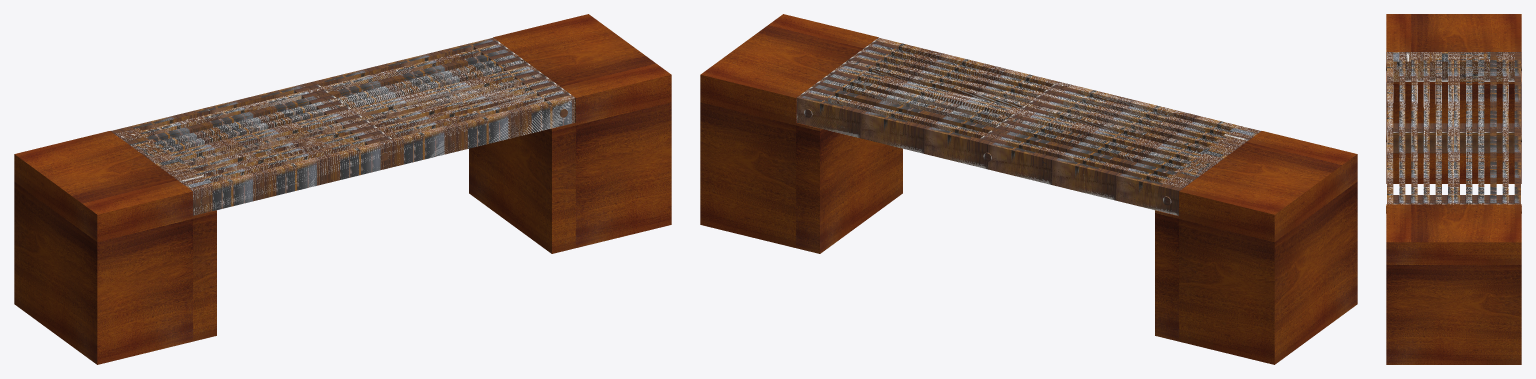
3 renders of one model, left to right at view 1: azimuth 30°, elevation 25°; view 2: azimuth 150°, elevation 25°; view 3: azimuth 270°, elevation 25°, orthographic. The views are drawn at different scales.
Parts seen in each view (by area): view 1: mesh1_mesh1-geometry, mesh3_mesh3-geometry, mesh54_mesh54-geometry, mesh5_mesh5-geometry, mesh37_mesh37-geometry, mesh15_mesh15-geometry, mesh36_mesh36-geometry, mesh19_mesh19-geometry, mesh29_mesh29-geometry, mesh53_mesh53-geometry, mesh41_mesh41-geometry, mesh25_mesh25-geometry (+2 smaller); view 2: mesh1_mesh1-geometry, mesh3_mesh3-geometry, mesh5_mesh5-geometry, mesh29_mesh29-geometry, mesh54_mesh54-geometry, mesh33_mesh33-geometry, mesh53_mesh53-geometry, mesh15_mesh15-geometry, mesh37_mesh37-geometry, mesh61_mesh61-geometry, mesh25_mesh25-geometry, mesh19_mesh19-geometry (+2 smaller); view 3: mesh3_mesh3-geometry, mesh1_mesh1-geometry, mesh19_mesh19-geometry, mesh61_mesh61-geometry, mesh5_mesh5-geometry, mesh15_mesh15-geometry, mesh25_mesh25-geometry, mesh29_mesh29-geometry, mesh37_mesh37-geometry, mesh41_mesh41-geometry, mesh53_mesh53-geometry, mesh54_mesh54-geometry (+22 smaller).
Boxes of the visible parts, box(x1,y1,x2,y2) form: mesh1_mesh1-geometry: box(14, 131, 216, 364); mesh3_mesh3-geometry: box(469, 14, 671, 253); mesh54_mesh54-geometry: box(189, 95, 575, 215); mesh5_mesh5-geometry: box(111, 37, 496, 133); mesh37_mesh37-geometry: box(159, 73, 545, 168); mesh15_mesh15-geometry: box(118, 43, 504, 138); mesh36_mesh36-geometry: box(152, 67, 537, 163); mesh19_mesh19-geometry: box(126, 48, 511, 144); mesh29_mesh29-geometry: box(141, 59, 526, 155); mesh53_mesh53-geometry: box(182, 89, 567, 185); mesh41_mesh41-geometry: box(167, 78, 552, 174); mesh25_mesh25-geometry: box(133, 54, 518, 149); mesh1_mesh1-geometry: box(1155, 131, 1357, 364); mesh3_mesh3-geometry: box(700, 14, 902, 253); mesh5_mesh5-geometry: box(796, 95, 1182, 215); mesh29_mesh29-geometry: box(826, 73, 1212, 168); mesh54_mesh54-geometry: box(875, 37, 1260, 133); mesh33_mesh33-geometry: box(834, 67, 1219, 163); mesh53_mesh53-geometry: box(867, 43, 1253, 138); mesh15_mesh15-geometry: box(804, 89, 1189, 185); mesh37_mesh37-geometry: box(845, 59, 1230, 155); mesh61_mesh61-geometry: box(860, 48, 1245, 144); mesh25_mesh25-geometry: box(819, 78, 1204, 174); mesh19_mesh19-geometry: box(812, 84, 1197, 179); mesh3_mesh3-geometry: box(1386, 204, 1521, 364); mesh1_mesh1-geometry: box(1386, 14, 1521, 183); mesh19_mesh19-geometry: box(1490, 52, 1496, 204); mesh61_mesh61-geometry: box(1411, 52, 1417, 204); mesh5_mesh5-geometry: box(1514, 52, 1520, 204); mesh15_mesh15-geometry: box(1502, 52, 1508, 204); mesh25_mesh25-geometry: box(1478, 52, 1484, 204); mesh29_mesh29-geometry: box(1466, 52, 1472, 204); mesh37_mesh37-geometry: box(1435, 52, 1441, 204); mesh41_mesh41-geometry: box(1423, 52, 1429, 204); mesh53_mesh53-geometry: box(1399, 52, 1405, 204); mesh54_mesh54-geometry: box(1387, 52, 1393, 204).
Bounding box in the file's own units: 0.9426 × 0.2357 × 0.2366.
